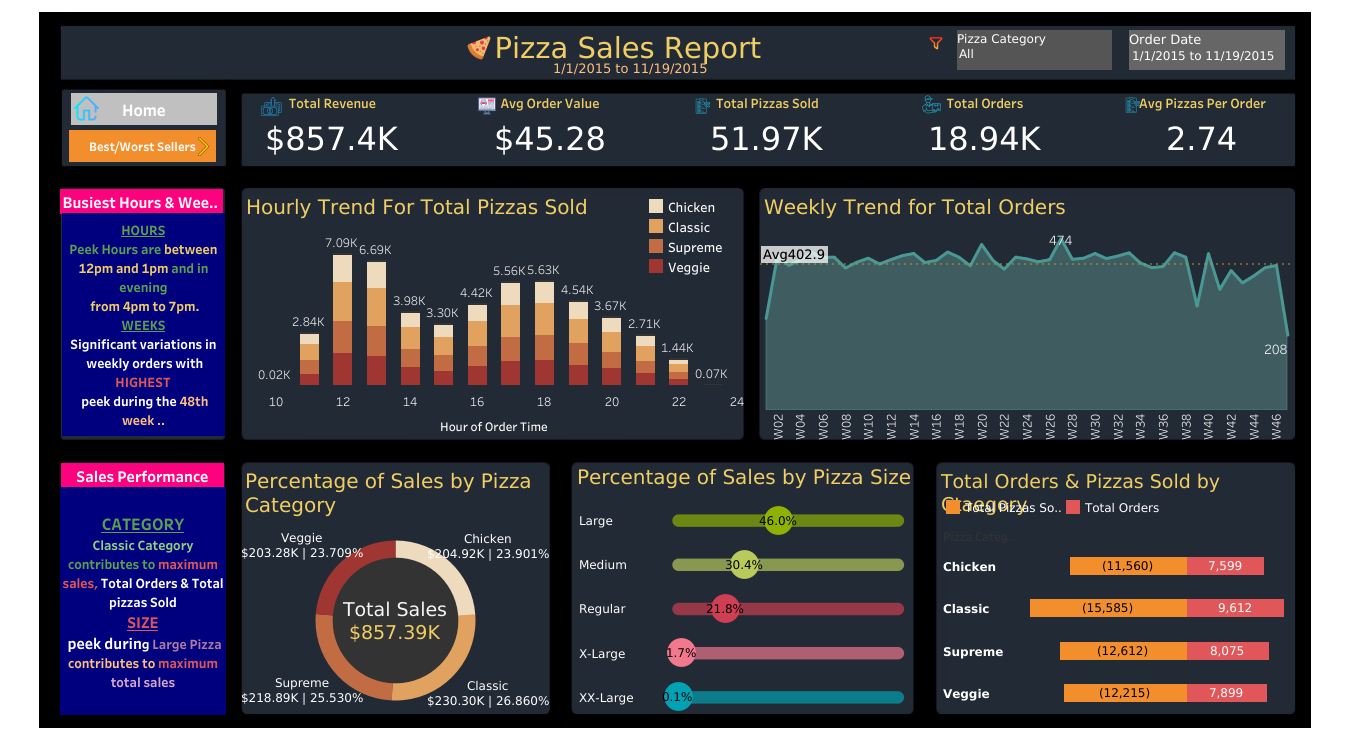

The page's visual inventory and layout, read from the dashboard file:
{"tool":"tableau","page":{"name":"Home","canvas":[1350,740],"ordinal":1},"visuals":[{"type":"image","param":"Image/Pizza Sales Background1.jpg","box":[8,8,1334,724]},{"type":"text","box":[484,22,288,51]},{"type":"filter","title":"Hourly Trend For Total Pizzas Sold","param":"[federated.12c8dyf0hao25h1e8o7i90zmha82].[none:pizza_category:nk]","box":[956.8,29.6,155.2,40.3]},{"type":"filter","title":"Hourly Trend For Total Pizzas Sold","param":"[federated.12c8dyf0hao25h1e8o7i90zmha82].[none:order_date:qk]","box":[1129,30,156,40]},{"type":"image","param":"Image/filter (1).png","box":[926.4,33.7,19.4,18.1]},{"type":"image","param":"Image/pizza-slice.png","box":[466,36,26,24]},{"type":"worksheet","title":"Date Range","mark":"Automatic","box":[515,61,232,16]},{"type":"worksheet","title":"KPI Banner","mark":"Automatic","box":[223.6,92.1,1087.6,74.8]},{"type":"dashboard-object","box":[71,93,146,32]},{"type":"image","param":"Image/profit-growth.png","box":[259,95,25,23]},{"type":"image","param":"Image/delivery-man.png","box":[922.2,95.4,19.4,18.9]},{"type":"image","param":"Image/home.png","box":[74.2,96.2,26.2,24.7]},{"type":"image","param":"Image/monitor.png","box":[478,97,20,18]},{"type":"image","param":"Image/order-delivery.png","box":[1122.2,97,21.9,15.6]},{"type":"image","param":"Image/order-delivery.png","box":[692,98,22,16]},{"type":"dashboard-object","box":[69,130,147,32]},{"type":"image","param":"Image/down-arrow.png","box":[194,137,20,19]},{"type":"text","box":[60,189,163,25]},{"type":"worksheet","title":"Hourly Trend For Total Pizzas Sold","mark":"Bar","rows":["Calculation_689050793160065027","Calculation_689050793160065027"],"cols":["order_time"],"box":[242,189,504,253]},{"type":"worksheet","title":"Weekly Trend for Total Orders","mark":"Area","rows":["Calculation_689050793159372801","Calculation_689050793159372801"],"cols":["order_date"],"box":[760,189,533,252]},{"type":"legend","title":"Hourly Trend For Total Pizzas Sold","param":"[federated.12c8dyf0hao25h1e8o7i90zmha82].[none:pizza_category:nk]","box":[646.3,195.7,85.2,80.6]},{"type":"text","box":[62,213,163,223]},{"type":"worksheet","title":"Percentage of Sales by Pizza Size","mark":"Line","rows":["pizza_size"],"box":[573,459,342,260]},{"type":"text","box":[61,463,163,24]},{"type":"worksheet","title":"Percentage of Sales by Pizza Category","mark":"Pie","rows":["Calculation_689050793223958536","Calculation_689050793224003594"],"box":[241,463,309,252]},{"type":"worksheet","title":"Total Orders & Pizzas Sold by Ctaegory","mark":"Automatic","rows":["pizza_category"],"box":[937,464,360,250]},{"type":"text","box":[60,487,166,228]},{"type":"legend","title":"Total Orders & Pizzas Sold by Ctaegory","param":"[federated.12c8dyf0hao25h1e8o7i90zmha82].[:Measure Names]","box":[943,497,314,25]}]}

Visuals, with their boxes in screenshot pixels (x1, y1, x2, y2), scaled from the page's 1350x740 canvas onto the 1349x739 screenshot:
image: bbox=[8, 8, 1341, 731]
text: bbox=[484, 22, 771, 73]
"Hourly Trend For Total Pizzas Sold" filter: bbox=[956, 30, 1111, 70]
"Hourly Trend For Total Pizzas Sold" filter: bbox=[1128, 30, 1284, 70]
image: bbox=[926, 34, 945, 52]
image: bbox=[466, 36, 492, 60]
"Date Range" worksheet: bbox=[515, 61, 746, 77]
"KPI Banner" worksheet: bbox=[223, 92, 1310, 167]
dashboard-object: bbox=[71, 93, 217, 125]
image: bbox=[259, 95, 284, 118]
image: bbox=[922, 95, 941, 114]
image: bbox=[74, 96, 100, 121]
image: bbox=[478, 97, 498, 115]
image: bbox=[1121, 97, 1143, 112]
image: bbox=[691, 98, 713, 114]
dashboard-object: bbox=[69, 130, 216, 162]
image: bbox=[194, 137, 214, 156]
text: bbox=[60, 189, 223, 214]
"Hourly Trend For Total Pizzas Sold" worksheet (Bar marks): bbox=[242, 189, 745, 441]
"Weekly Trend for Total Orders" worksheet (Area marks): bbox=[759, 189, 1292, 440]
"Hourly Trend For Total Pizzas Sold" legend: bbox=[646, 195, 731, 276]
text: bbox=[62, 213, 225, 435]
"Percentage of Sales by Pizza Size" worksheet (Line marks): bbox=[573, 458, 914, 718]
text: bbox=[61, 462, 224, 486]
"Percentage of Sales by Pizza Category" worksheet (Pie marks): bbox=[241, 462, 550, 714]
"Total Orders & Pizzas Sold by Ctaegory" worksheet: bbox=[936, 463, 1296, 713]
text: bbox=[60, 486, 226, 714]
"Total Orders & Pizzas Sold by Ctaegory" legend: bbox=[942, 496, 1256, 521]
